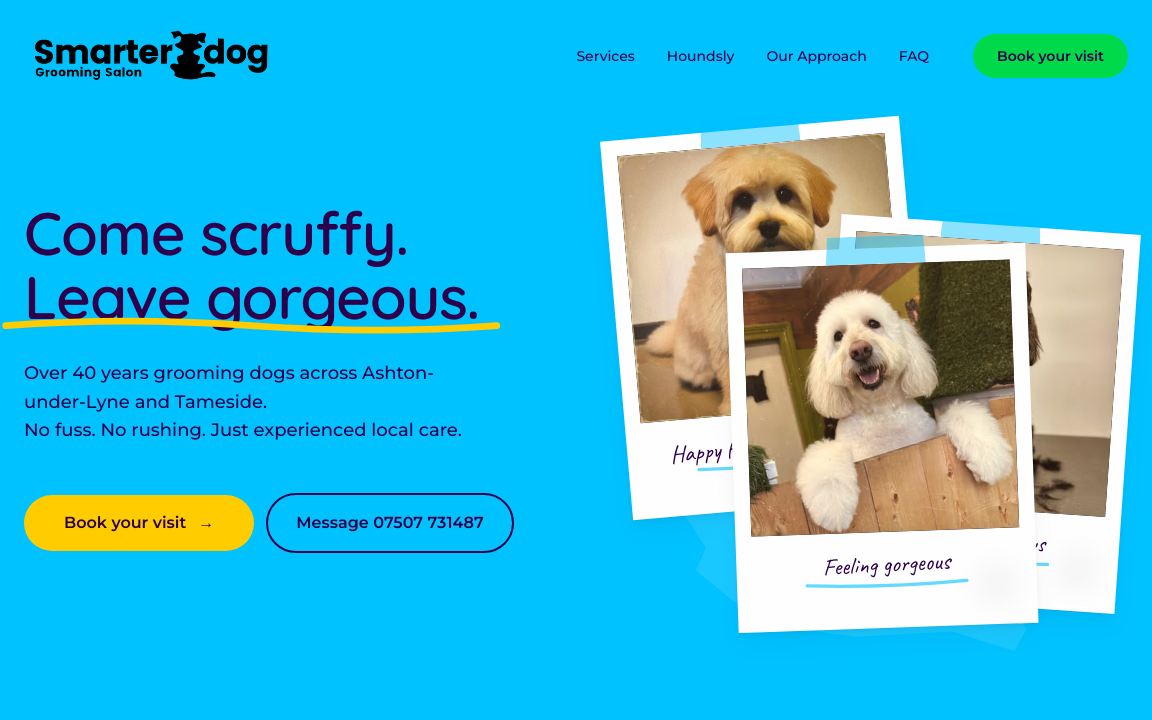
Test: SmarterDogHomepage integration › opens and closes booking modal
Step 1. Click the button "Book your visit" → (1050, 56), box [973,34,1128,78]
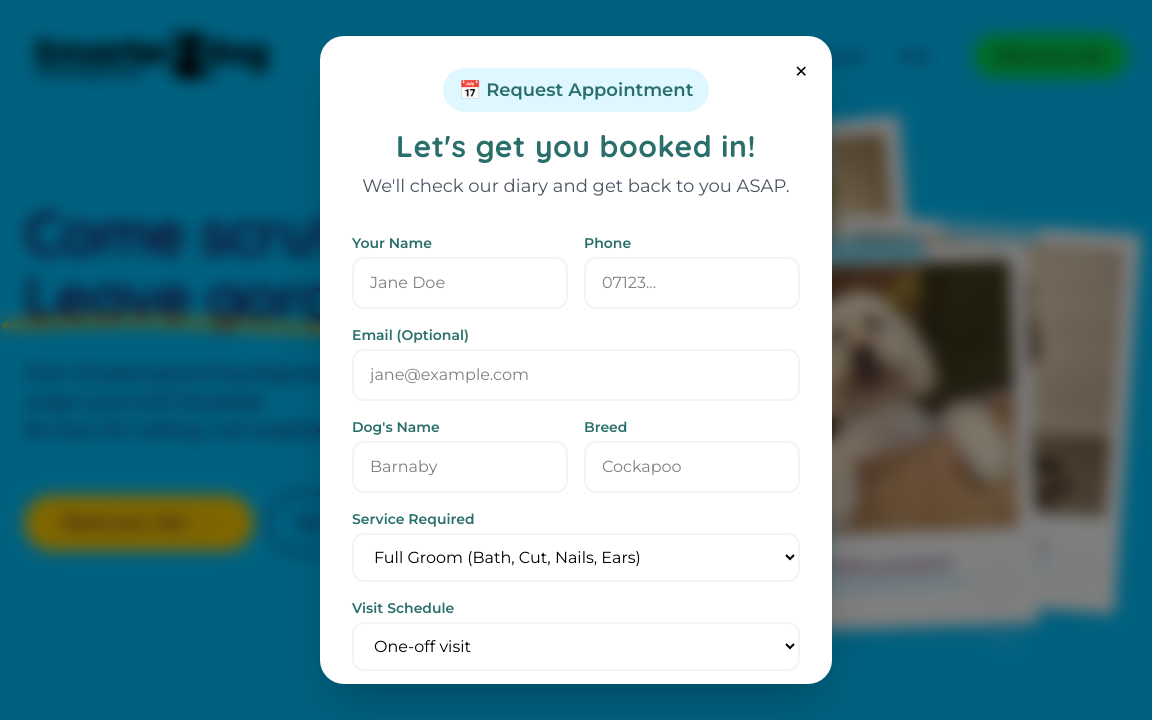
Expected: the dialog is shown, [320,36,832,684]
Expected: the heading "Let's get you booked in!" is shown, [396,127,756,165]
Step 2. Click the button named "Close modal" → (801, 72), box [787,52,816,92]
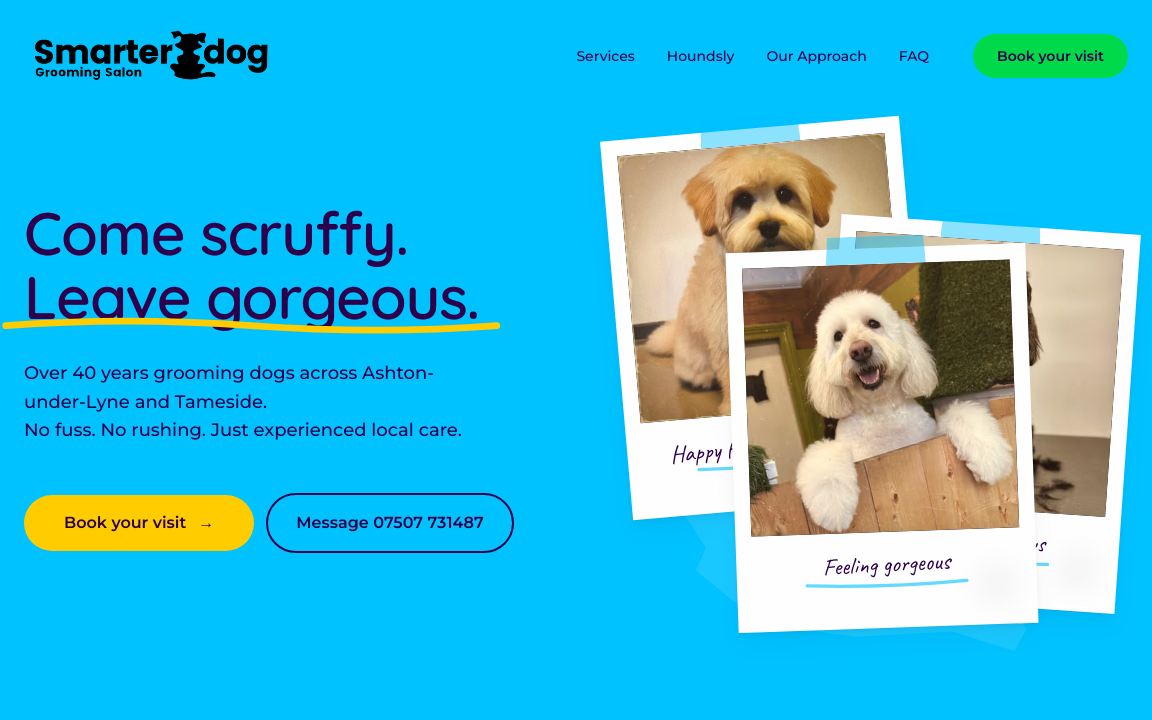
Expected: the dialog is gone
